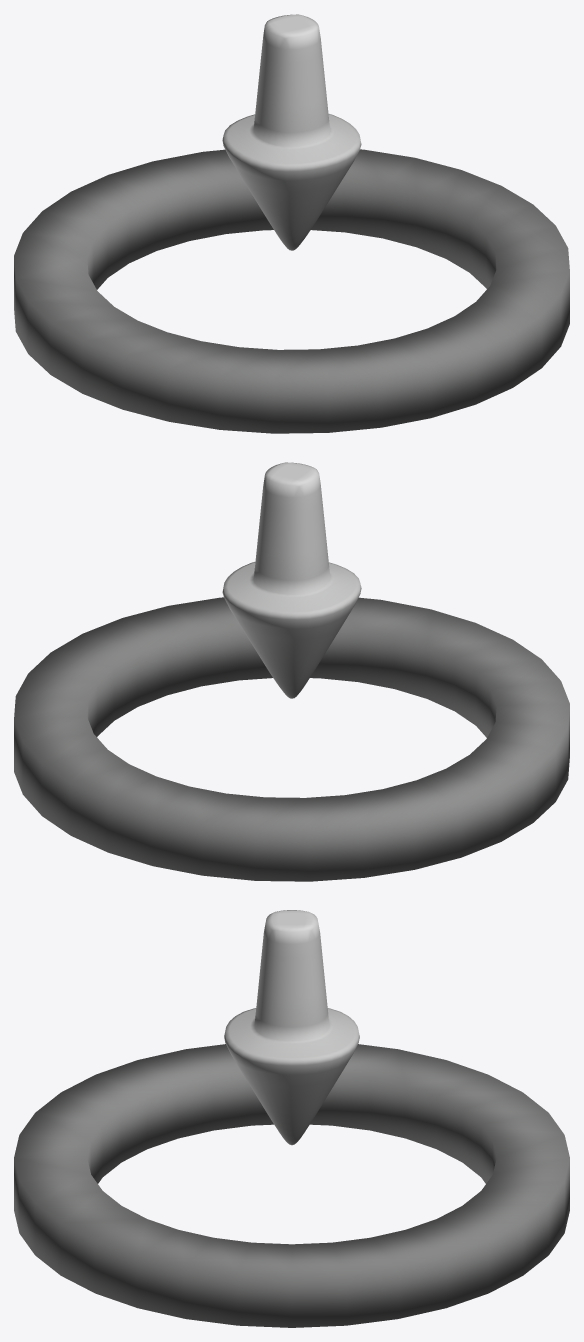
Rendered from SPOT3.dae.
3 renders of one model, top to bottom at view 1: azimuth 30°, elevation 25°; view 2: azimuth 150°, elevation 25°; view 3: azimuth 270°, elevation 25°, orthographic.
Parts seen in each view (by area): view 1: Circle_004; view 2: Circle_004; view 3: Circle_004.
Boxes of the visible parts, left/top/right/bottom form: Circle_004: left=14, top=14, right=569, bottom=433; Circle_004: left=14, top=462, right=569, bottom=881; Circle_004: left=14, top=910, right=569, bottom=1327.
Size of the model in its own units: 19.11 by 19.11 by 11.05.
Materials: 1 (1 with a texture image).
